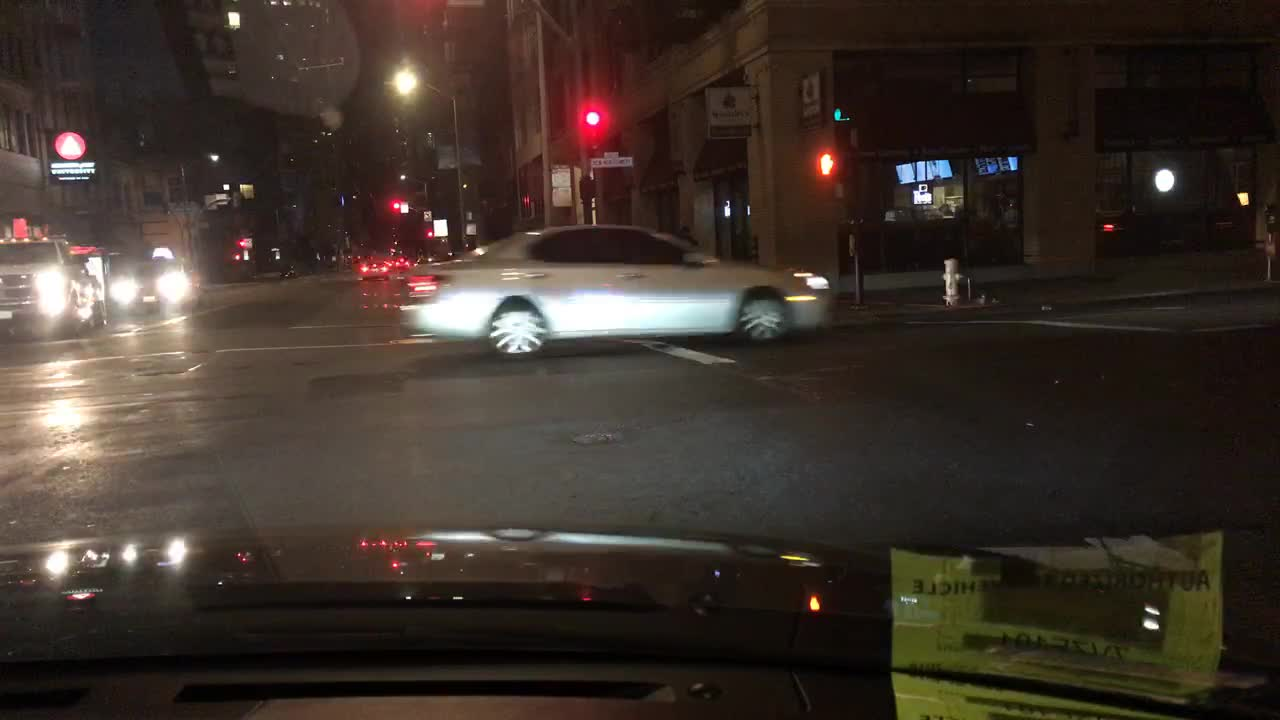car: (395, 222, 835, 357), (0, 236, 111, 338), (104, 246, 200, 315), (356, 255, 394, 281), (414, 249, 453, 262), (392, 254, 411, 271)
traffic light: (813, 146, 835, 177), (582, 100, 598, 129), (426, 228, 434, 242), (391, 200, 397, 211)
traffic sign: (590, 158, 633, 166), (422, 209, 433, 223), (398, 202, 408, 213)
